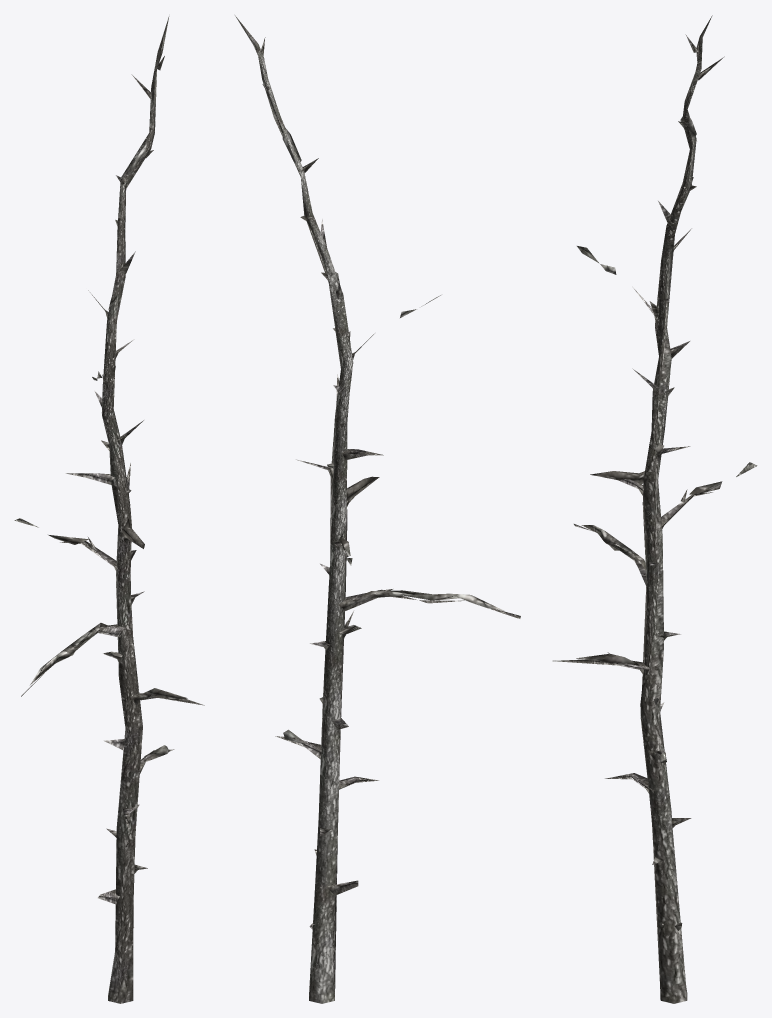
The model's file is arctic-dead-pine-a-mid.glb.
The picture shows the model from 3 angles, left to right: view 1: azimuth 30°, elevation 25°; view 2: azimuth 150°, elevation 25°; view 3: azimuth 270°, elevation 25°; orthographic projection. The views are drawn at different scales.
Parts seen in each view (by area): view 1: pine_dead_snow_a_LOD0; view 2: pine_dead_snow_a_LOD0; view 3: pine_dead_snow_a_LOD0.
Part boxes in pixels (left/top/right/bottom): pine_dead_snow_a_LOD0: left=14, top=16, right=204, bottom=1003; pine_dead_snow_a_LOD0: left=235, top=15, right=520, bottom=1003; pine_dead_snow_a_LOD0: left=552, top=15, right=757, bottom=1003.
Bounding box in the file's own units: 3.52 × 15 × 2.78.
Materials: 1 (1 with a texture image).
